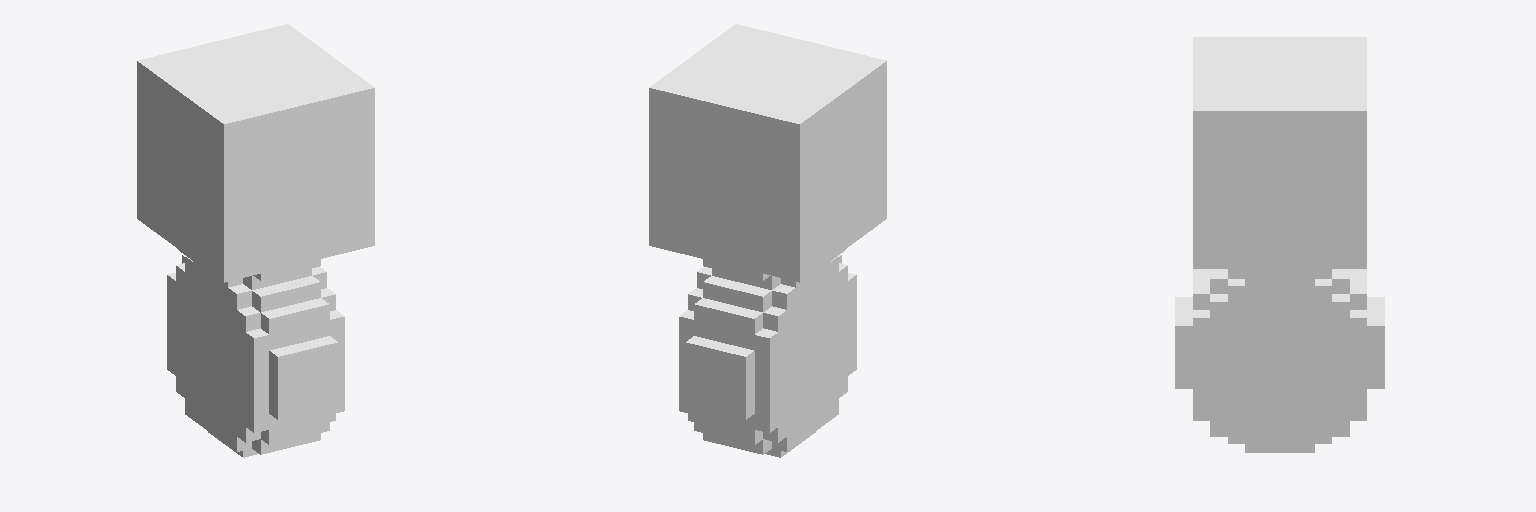
Rendered from medved-7.obj.
3 renders of one model, left to right at view 1: azimuth 30°, elevation 25°; view 2: azimuth 150°, elevation 25°; view 3: azimuth 270°, elevation 25°, orthographic.
Parts seen in each view (by area): view 1: object 1; view 2: object 1; view 3: object 1.
Part boxes in pixels (left/top/right/bottom): object 1: left=137, top=24, right=374, bottom=457; object 1: left=649, top=24, right=886, bottom=457; object 1: left=1175, top=37, right=1384, bottom=452.
Size of the model in its own units: 1 by 2.3 by 1.2.